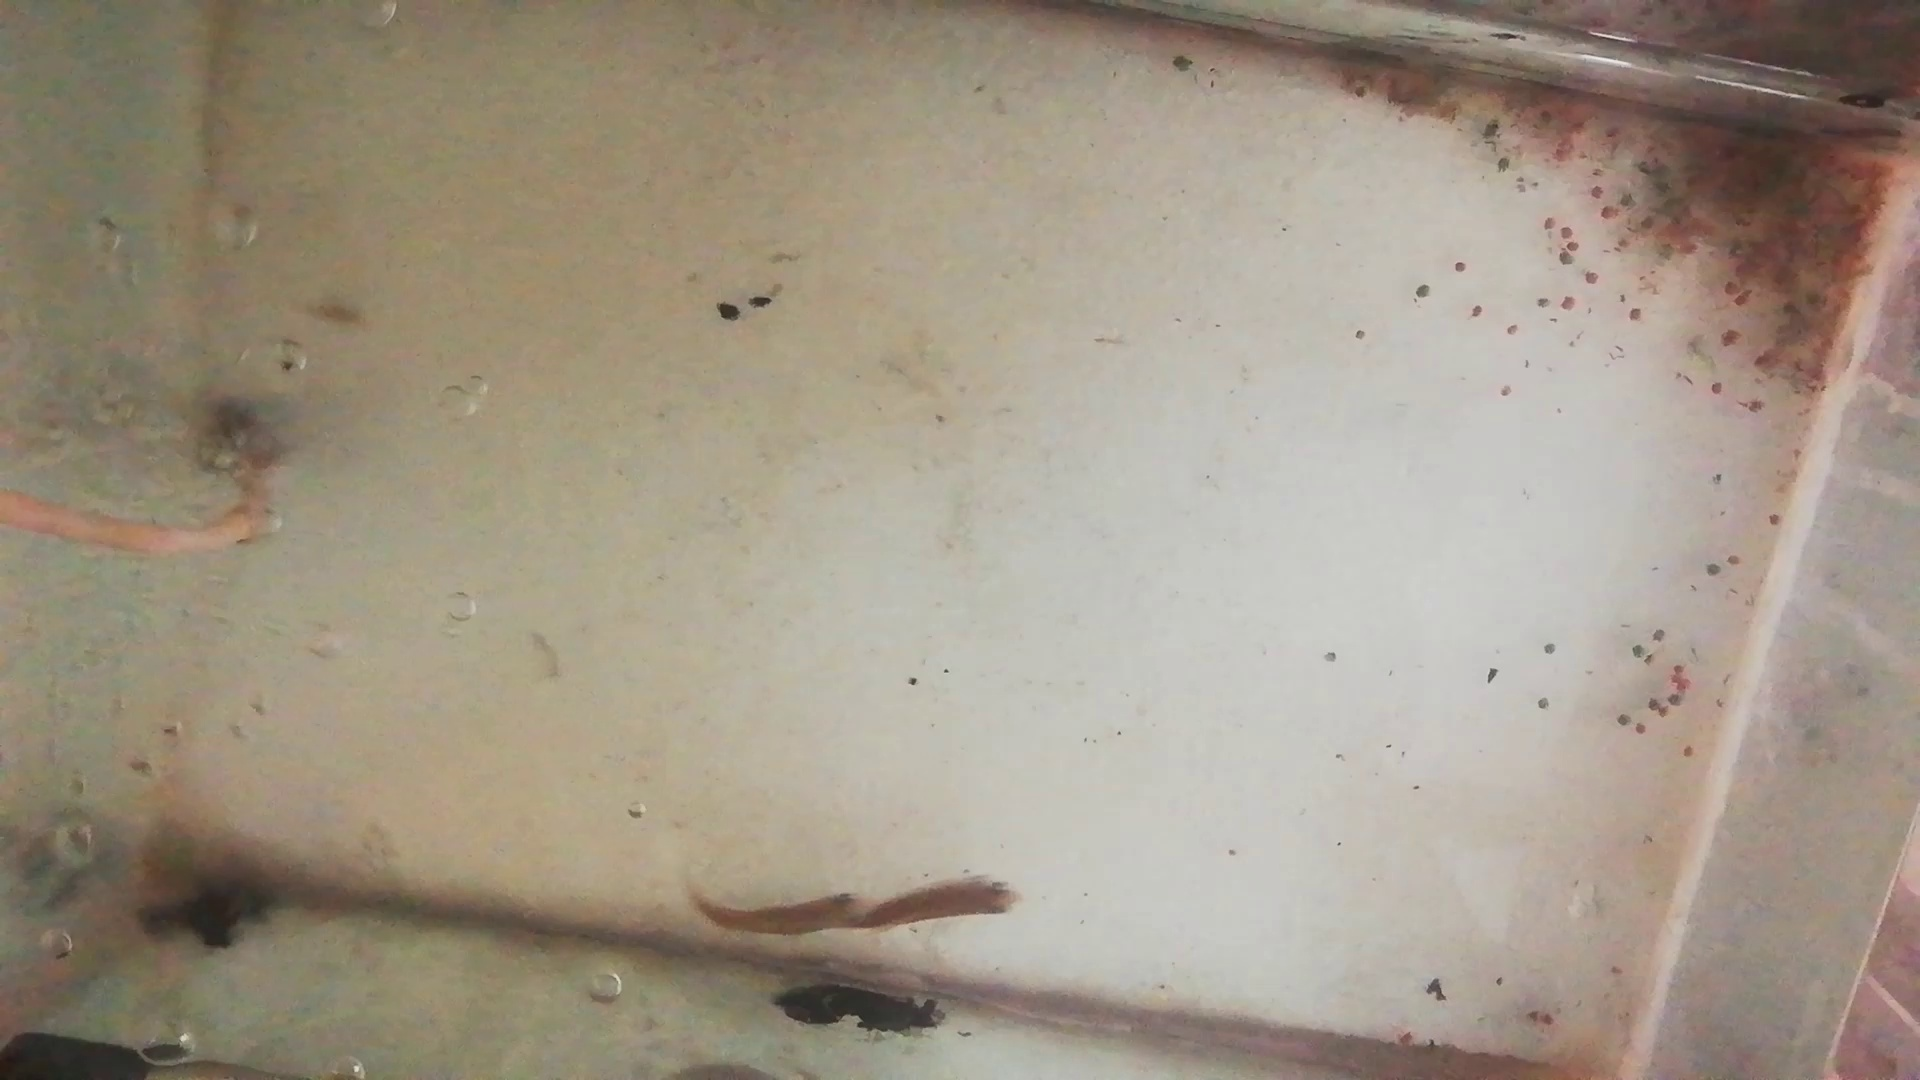fish: (843, 876, 1030, 928), (698, 891, 878, 935)
